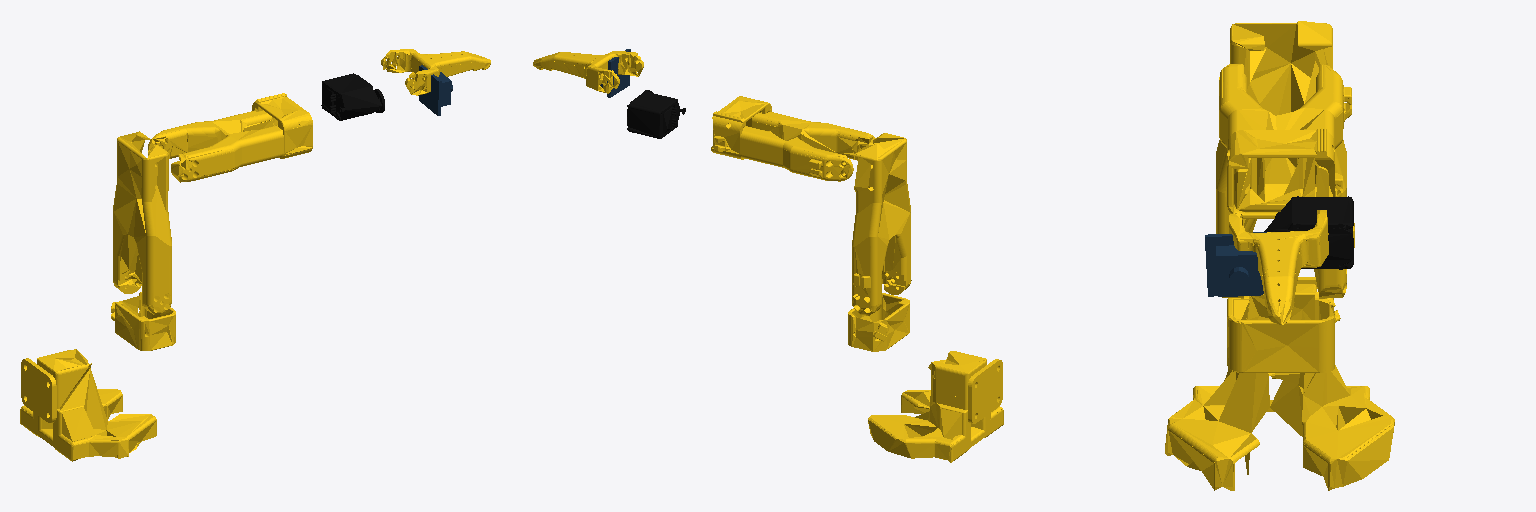
The robot description file, URDF, robot "so101_new_calib":
<?xml version="1.0" encoding="utf-8"?>
<!-- Generated using onshape-to-robot -->
<!-- Onshape https://cad.onshape.com/documents/7715cc284bb430fe6dab4ffd/w/4fd0791b683777b02f8d975a/e/826c553ede3b7592eb9ca800 -->
<robot name="so101_new_calib">

  <!-- Materials -->
  <material name="3d_printed">
    <color rgba="1.0 0.82 0.12 1.0"/>
  </material>
  <material name="sts3215">
    <color rgba="0.1 0.1 0.1 1.0"/>
  </material>
  <material name="camera">
    <color rgba="0.15 0.25 0.35 1.0"/>
  </material>

  <!-- Link base -->
  <link name="base_link">
    <inertial>
      <origin xyz="0.0137179 -5.19711e-05 0.0334843" rpy="0 0 0"/>
      <mass value="0.147"/>
      <inertia ixx="0.000114686" ixy="-4.59787e-07" ixz="4.97151e-06" iyy="0.000136117" iyz="9.75275e-08" izz="0.000130364"/>
    </inertial>
    <!-- Part base_motor_holder_so101_v1 -->
    <visual>
      <origin xyz="-0.00636471 -9.94414e-05 -0.0024" rpy="1.5708 -1.67685e-15 1.5708"/>
      <geometry>
        <mesh filename="assets/base_motor_holder_so101_v1.stl"/>
      </geometry>
      <material name="3d_printed"/>
    </visual>
    <!-- Collision bounding box for entire base_link (motor holder, base plate, servo, mounting plate) -->
    <!-- x: ~-0.045 to +0.065, y: ~±0.042, z: ~-0.004 to +0.090 -->
    <collision>
      <origin xyz="0.010 0 0.038" rpy="0 0 0"/>
      <geometry>
        <box size="0.115 0.090 0.098"/>
      </geometry>
    </collision>
    <!-- Part base_so101_v2 -->
    <visual>
      <origin xyz="-0.00636471 -8.97657e-09 -0.0024" rpy="1.5708 -2.78073e-29 1.5708"/>
      <geometry>
        <mesh filename="assets/base_so101_v2.stl"/>
      </geometry>
      <material name="3d_printed"/>
    </visual>
    <!-- Part sts3215_03a_v1 -->
    <visual>
      <origin xyz="0.0263353 -8.97657e-09 0.0437" rpy="-8.21148e-16 7.84513e-18 1.249e-15"/>
      <geometry>
        <mesh filename="assets/sts3215_03a_v1.stl"/>
      </geometry>
      <material name="sts3215"/>
    </visual>
    <!-- Part waveshare_mounting_plate_so101_v2 -->
    <visual>
      <origin xyz="-0.0309827 -0.000199441 0.0474" rpy="1.5708 -1.35493e-14 1.5708"/>
      <geometry>
        <mesh filename="assets/waveshare_mounting_plate_so101_v2.stl"/>
      </geometry>
      <material name="3d_printed"/>
    </visual>
  </link>

  <!-- Link shoulder -->
  <link name="shoulder_link">
    <inertial>
      <origin xyz="-0.0307604 -1.66727e-05 -0.0252713" rpy="0 0 0"/>
      <mass value="0.100006"/>
      <inertia ixx="8.3759e-05" ixy="7.55525e-08" ixz="-1.16342e-06" iyy="8.10403e-05" iyz="1.54663e-07" izz="2.39783e-05"/>
    </inertial>
    <!-- Part sts3215_03a_v1_2 -->
    <visual>
      <origin xyz="-0.0303992 0.000422241 -0.0417" rpy="1.5708 1.5708 0"/>
      <geometry>
        <mesh filename="assets/sts3215_03a_v1.stl"/>
      </geometry>
      <material name="sts3215"/>
    </visual>
    <!-- Collision bounding box for shoulder_link (servo, motor holder, rotation pitch) -->
    <!-- x: ~-0.090 to +0.040, z: ~-0.042 to +0.048 -->
    <collision>
      <origin xyz="-0.025 0 -0.010" rpy="0 0 0"/>
      <geometry>
        <box size="0.135 0.055 0.110"/>
      </geometry>
    </collision>
    <!-- Part motor_holder_so101_base_v1 -->
    <visual>
      <origin xyz="-0.0675992 -0.000177759 0.0158499" rpy="1.5708 -1.5708 0"/>
      <geometry>
        <mesh filename="assets/motor_holder_so101_base_v1.stl"/>
      </geometry>
      <material name="3d_printed"/>
    </visual>
    <!-- Part rotation_pitch_so101_v1 -->
    <visual>
      <origin xyz="0.0122008 2.22413e-05 0.0464" rpy="-1.5708 2.35221e-33 0"/>
      <geometry>
        <mesh filename="assets/rotation_pitch_so101_v1.stl"/>
      </geometry>
      <material name="3d_printed"/>
    </visual>
  </link>

  <!-- Link upper_arm -->
  <link name="upper_arm_link">
    <inertial>
      <origin xyz="-0.0898471 -0.00838224 0.0184089" rpy="0 0 0"/>
      <mass value="0.103"/>
      <inertia ixx="4.08002e-05" ixy="-1.97819e-05" ixz="-4.03016e-08" iyy="0.000147318" iyz="8.97326e-09" izz="0.000142487"/>
    </inertial>
    <!-- Part sts3215_03a_v1_3 -->
    <visual>
      <origin xyz="-0.11257 -0.0155 0.0187" rpy="-3.14159 -5.27356e-16 -1.5708"/>
      <geometry>
        <mesh filename="assets/sts3215_03a_v1.stl"/>
      </geometry>
      <material name="sts3215"/>
    </visual>
    <!-- Collision bounding box for upper_arm_link (servo at x=-0.113 and upper arm structure) -->
    <!-- x: ~-0.145 to +0.000, y: ~-0.018 to +0.035, z: ~+0.000 to +0.038 -->
    <collision>
      <origin xyz="-0.065 -0.003 0.018" rpy="0 0 0"/>
      <geometry>
        <box size="0.155 0.060 0.055"/>
      </geometry>
    </collision>
    <!-- Part upper_arm_so101_v1 -->
    <visual>
      <origin xyz="-0.065085 0.012 0.0182" rpy="3.14159 -0 -1.30911e-30"/>
      <geometry>
        <mesh filename="assets/upper_arm_so101_v1.stl"/>
      </geometry>
      <material name="3d_printed"/>
    </visual>
  </link>

  <!-- Link lower_arm -->
  <link name="lower_arm_link">
    <inertial>
      <origin xyz="-0.0980701 0.00324376 0.0182831" rpy="0 0 0"/>
      <mass value="0.104"/>
      <inertia ixx="2.87438e-05" ixy="7.41152e-06" ixz="1.26409e-06" iyy="0.000159844" iyz="-4.90188e-08" izz="0.00014529"/>
    </inertial>
    <!-- Part under_arm_so101_v1 -->
    <visual>
      <origin xyz="-0.0648499 -0.032 0.0182" rpy="3.14159 -0 6.67202e-31"/>
      <geometry>
        <mesh filename="assets/under_arm_so101_v1.stl"/>
      </geometry>
      <material name="3d_printed"/>
    </visual>
    <!-- Collision bounding box for lower_arm_link (under arm, wrist holder, servo at x=-0.122) -->
    <!-- x: ~-0.158 to +0.000, y: ~-0.045 to +0.020, z: ~+0.000 to +0.038 -->
    <collision>
      <origin xyz="-0.065 -0.013 0.018" rpy="0 0 0"/>
      <geometry>
        <box size="0.165 0.070 0.050"/>
      </geometry>
    </collision>
    <!-- Part motor_holder_so101_wrist_v1 -->
    <visual>
      <origin xyz="-0.0648499 -0.032 0.018" rpy="-3.14159 -2.55351e-15 -1.83387e-30"/>
      <geometry>
        <mesh filename="assets/motor_holder_so101_wrist_v1.stl"/>
      </geometry>
      <material name="3d_printed"/>
    </visual>
    <!-- Part sts3215_03a_v1_4 -->
    <visual>
      <origin xyz="-0.1224 0.0052 0.0187" rpy="-3.14159 -7.88861e-31 -3.14159"/>
      <geometry>
        <mesh filename="assets/sts3215_03a_v1.stl"/>
      </geometry>
      <material name="sts3215"/>
    </visual>
  </link>

  <!-- Link wrist -->
  <link name="wrist_link">
    <inertial>
      <origin xyz="-0.000103312 -0.0386143 0.0281156" rpy="0 0 0"/>
      <mass value="0.079"/>
      <inertia ixx="3.68263e-05" ixy="1.7893e-08" ixz="-5.28128e-08" iyy="2.5391e-05" iyz="3.6412e-06" izz="2.1e-05"/>
    </inertial>
    <!-- Part sts3215_03a_no_horn_v1 -->
    <visual>
      <origin xyz="8.32667e-17 -0.0424 0.0306" rpy="1.5708 1.5708 0"/>
      <geometry>
        <mesh filename="assets/sts3215_03a_no_horn_v1.stl"/>
      </geometry>
      <material name="sts3215"/>
    </visual>
    <!-- Collision bounding box for wrist_link (no-horn servo + wrist roll-pitch bracket) -->
    <!-- y: ~-0.080 to +0.000, z: ~-0.005 to +0.065, x: ~±0.022 -->
    <collision>
      <origin xyz="0 -0.040 0.030" rpy="0 0 0"/>
      <geometry>
        <box size="0.048 0.090 0.075"/>
      </geometry>
    </collision>
    <!-- Part wrist_roll_pitch_so101_v2 -->
    <visual>
      <origin xyz="0 -0.028 0.0181" rpy="-1.5708 -1.5708 0"/>
      <geometry>
        <mesh filename="assets/wrist_roll_pitch_so101_v2.stl"/>
      </geometry>
      <material name="3d_printed"/>
    </visual>
  </link>

  <!-- Link gripper -->
  <link name="gripper_link">
    <inertial>
      <origin xyz="0.000213627 0.000245138 -0.025187" rpy="0 0 0"/>
      <mass value="0.087"/>
      <inertia ixx="2.75087e-05" ixy="-3.35241e-07" ixz="-5.7352e-06" iyy="4.33657e-05" iyz="-5.17847e-08" izz="3.45059e-05"/>
    </inertial>
    <!-- Part sts3215_03a_v1_5 -->
    <visual>
      <origin xyz="0.0077 0.0001 -0.0234" rpy="-1.5708 -5.19179e-17 -1.66533e-16"/>
      <geometry>
        <mesh filename="assets/sts3215_03a_v1.stl"/>
      </geometry>
      <material name="sts3215"/>
    </visual>
    <!-- Collision bounding box for gripper_link (servo + wrist roll follower) -->
    <!-- x: ~-0.010 to +0.030, y: ~±0.022, z: ~-0.060 to +0.010 -->
    <!-- gripper_frame is at z=-0.098 so include up to z=-0.100 -->
    <collision>
      <origin xyz="0.004 0 -0.048" rpy="0 0 0"/>
      <geometry>
        <box size="0.042 0.045 0.110"/>
      </geometry>
    </collision>
    <!-- Part wrist_roll_follower_so101_v1 -->
    <visual>
      <origin xyz="8.32667e-17 -0.000218214 0.000949706" rpy="-3.14159 -5.55112e-17 0"/>
      <geometry>
        <mesh filename="assets/wrist_roll_follower_so101_v1.stl"/>
      </geometry>
      <material name="3d_printed"/>
    </visual>
    <!-- Wrist camera (32x32 snap-on UVC camera, faces downward in gripper frame) -->
    <!-- T_cam_to_gripper: xyz=[10mm, -20mm, -35mm], R=Rx(pi) — from cameras.yaml -->
    <visual>
      <origin xyz="0.01 -0.02 -0.035" rpy="3.14159 0 0"/>
      <geometry>
        <mesh filename="assets/wrist_camera_so101_v1.stl"/>
      </geometry>
      <material name="camera"/>
    </visual>
  </link>

  <!-- Gripper frame (dummy link + fixed joint) -->
  <link name="gripper_frame_link">
    <origin xyz="0 0 0" rpy="0 -0 0"/>
    <inertial>
      <origin xyz="0 0 0" rpy="0 0 0"/>
      <mass value="1e-9"/>
      <inertia ixx="0" ixy="0" ixz="0" iyy="0" iyz="0" izz="0"/>
    </inertial>
  </link>

  <joint name="gripper_frame_joint" type="fixed">
    <origin xyz="-0.0079 -0.000218121 -0.0981274" rpy="0 3.14159 0"/>
    <parent link="gripper_link"/>
    <child link="gripper_frame_link"/>
    <axis xyz="0 0 0"/>
  </joint>

  <!-- Link moving_jaw_so101_v1 -->
  <link name="moving_jaw_so101_v1_link">
    <inertial>
      <origin xyz="-0.00157495 -0.0300244 0.0192755" rpy="0 0 0"/>
      <mass value="0.012"/>
      <inertia ixx="6.61427e-06" ixy="-3.19807e-07" ixz="-5.90717e-09" iyy="1.89032e-06" iyz="-1.09945e-07" izz="5.28738e-06"/>
    </inertial>
    <!-- Part moving_jaw_so101_v1 -->
    <visual>
      <origin xyz="-5.55112e-17 -5.55112e-17 0.0189" rpy="9.53145e-17 6.93889e-18 1.24077e-24"/>
      <geometry>
        <mesh filename="assets/moving_jaw_so101_v1.stl"/>
      </geometry>
      <material name="3d_printed"/>
    </visual>
    <!-- Box approximating the moving jaw (inertial center y=-0.030, z=0.019) -->
    <collision>
      <origin xyz="-0.002 -0.025 0.025" rpy="0 0 0"/>
      <geometry>
        <box size="0.030 0.060 0.060"/>
      </geometry>
    </collision>
  </link>

  <!-- Joint from gripper to moving_jaw_so101_v1 -->
  <joint name="gripper" type="revolute">
    <origin xyz="0.0202 0.0188 -0.0234" rpy="1.5708 -5.24284e-08 -1.41553e-15"/>
    <parent link="gripper_link"/>
    <child link="moving_jaw_so101_v1_link"/>
    <axis xyz="0 0 1"/>
    <limit effort="10" velocity="10" lower="-0.174533" upper="1.74533"/>
  </joint>

  <transmission name="gripper_trans">
    <type>transmission_interface/SimpleTransmission</type>
    <joint name="gripper">
      <hardwareInterface>hardware_interface/PositionJointInterface</hardwareInterface>
    </joint>
    <actuator name="motor6">
      <hardwareInterface>hardware_interface/PositionJointInterface</hardwareInterface>
      <mechanicalReduction>1</mechanicalReduction>
    </actuator>
  </transmission>

  <!-- Joint from wrist to gripper -->
  <joint name="wrist_roll" type="revolute">
    <origin xyz="5.55112e-17 -0.0611 0.0181" rpy="1.5708 0.0486795 3.14159"/>
    <parent link="wrist_link"/>
    <child link="gripper_link"/>
    <axis xyz="0 0 1"/>
    <limit effort="10" velocity="10" lower="-2.74385" upper="2.84121"/>
  </joint>

  <transmission name="wrist_roll_trans">
    <type>transmission_interface/SimpleTransmission</type>
    <joint name="wrist_roll">
      <hardwareInterface>hardware_interface/PositionJointInterface</hardwareInterface>
    </joint>
    <actuator name="motor5">
      <hardwareInterface>hardware_interface/PositionJointInterface</hardwareInterface>
      <mechanicalReduction>1</mechanicalReduction>
    </actuator>
  </transmission>

  <!-- Joint from lower_arm to wrist -->
  <joint name="wrist_flex" type="revolute">
    <origin xyz="-0.1349 0.0052 3.62355e-17" rpy="4.02456e-15 8.67362e-16 -1.5708"/>
    <parent link="lower_arm_link"/>
    <child link="wrist_link"/>
    <axis xyz="0 0 1"/>
    <limit effort="10" velocity="10" lower="-1.65806" upper="1.65806"/>
  </joint>

  <transmission name="wrist_flex_trans">
    <type>transmission_interface/SimpleTransmission</type>
    <joint name="wrist_flex">
      <hardwareInterface>hardware_interface/PositionJointInterface</hardwareInterface>
    </joint>
    <actuator name="motor4">
      <hardwareInterface>hardware_interface/PositionJointInterface</hardwareInterface>
      <mechanicalReduction>1</mechanicalReduction>
    </actuator>
  </transmission>

  <!-- Joint from upper_arm to lower_arm -->
  <!-- Note: 5-degree calibration offset applied to joint limits -->
  <joint name="elbow_flex" type="revolute">
    <origin xyz="-0.11257 -0.028 1.73763e-16" rpy="-3.63608e-16 8.74301e-16 1.5708"/>
    <parent link="upper_arm_link"/>
    <child link="lower_arm_link"/>
    <axis xyz="0 0 1"/>
    <limit effort="10" velocity="10" lower="-1.69" upper="1.69"/>
  </joint>

  <transmission name="elbow_flex_trans">
    <type>transmission_interface/SimpleTransmission</type>
    <joint name="elbow_flex">
      <hardwareInterface>hardware_interface/PositionJointInterface</hardwareInterface>
    </joint>
    <actuator name="motor3">
      <hardwareInterface>hardware_interface/PositionJointInterface</hardwareInterface>
      <mechanicalReduction>1</mechanicalReduction>
    </actuator>
  </transmission>

  <!-- Joint from shoulder to upper_arm -->
  <joint name="shoulder_lift" type="revolute">
    <origin xyz="-0.0303992 -0.0182778 -0.0542" rpy="-1.5708 -1.5708 0"/>
    <parent link="shoulder_link"/>
    <child link="upper_arm_link"/>
    <axis xyz="0 0 1"/>
    <limit effort="10" velocity="10" lower="-1.74533" upper="1.74533"/>
  </joint>

  <transmission name="shoulder_lift_trans">
    <type>transmission_interface/SimpleTransmission</type>
    <joint name="shoulder_lift">
      <hardwareInterface>hardware_interface/PositionJointInterface</hardwareInterface>
    </joint>
    <actuator name="motor2">
      <hardwareInterface>hardware_interface/PositionJointInterface</hardwareInterface>
      <mechanicalReduction>1</mechanicalReduction>
    </actuator>
  </transmission>

  <!-- Joint from base to shoulder -->
  <joint name="shoulder_pan" type="revolute">
    <origin xyz="0.0388353 -8.97657e-09 0.0624" rpy="3.14159 4.18253e-17 -3.14159"/>
    <parent link="base_link"/>
    <child link="shoulder_link"/>
    <axis xyz="0 0 1"/>
    <limit effort="10" velocity="10" lower="-1.91986" upper="1.91986"/>
  </joint>

  <transmission name="shoulder_pan_trans">
    <type>transmission_interface/SimpleTransmission</type>
    <joint name="shoulder_pan">
      <hardwareInterface>hardware_interface/PositionJointInterface</hardwareInterface>
    </joint>
    <actuator name="motor1">
      <hardwareInterface>hardware_interface/PositionJointInterface</hardwareInterface>
      <mechanicalReduction>1</mechanicalReduction>
    </actuator>
  </transmission> 

</robot>

--- What the picture shows (computed from the rendered views, not written in the file) ---
The picture shows the robot from 3 angles, left to right: view 1: azimuth 30°, elevation 25°; view 2: azimuth 150°, elevation 25°; view 3: azimuth 270°, elevation 25°; orthographic projection.
Model so101_new_calib with 8 links and 7 joints (6 revolute, 1 fixed), rooted at base_link, posed all joints at 0.
Links seen in each view (by area): view 1: base_link, upper_arm_link, lower_arm_link, moving_jaw_so101_v1_link, shoulder_link, wrist_link, gripper_link; view 2: base_link, upper_arm_link, lower_arm_link, shoulder_link, moving_jaw_so101_v1_link, wrist_link; view 3: base_link, lower_arm_link, upper_arm_link, shoulder_link, moving_jaw_so101_v1_link, wrist_link, gripper_link.
Link boxes in pixels (x1,y1,x2,y2): base_link: (20,349,156,461); upper_arm_link: (113,131,171,315); lower_arm_link: (148,93,312,182); moving_jaw_so101_v1_link: (381,49,490,95); shoulder_link: (111,292,175,350); wrist_link: (321,73,384,120); gripper_link: (419,65,452,115); base_link: (868,351,1003,462); upper_arm_link: (852,133,911,315); lower_arm_link: (711,96,875,181); shoulder_link: (848,293,909,351); moving_jaw_so101_v1_link: (533,51,643,93); wrist_link: (627,90,685,138); base_link: (1165,277,1394,490); lower_arm_link: (1219,64,1351,218); upper_arm_link: (1216,21,1354,298); shoulder_link: (1227,292,1340,372); moving_jaw_so101_v1_link: (1229,210,1328,324); wrist_link: (1264,196,1353,269); gripper_link: (1205,232,1266,296).
Size in the robot's own frame: 0.4306 by 0.1124 by 0.2695 metres.
Meshes: 14 distinct files referenced, 9 mesh visuals loaded (9 binary STL); not drawn: 9 (reference not matched to a file when rendering).
